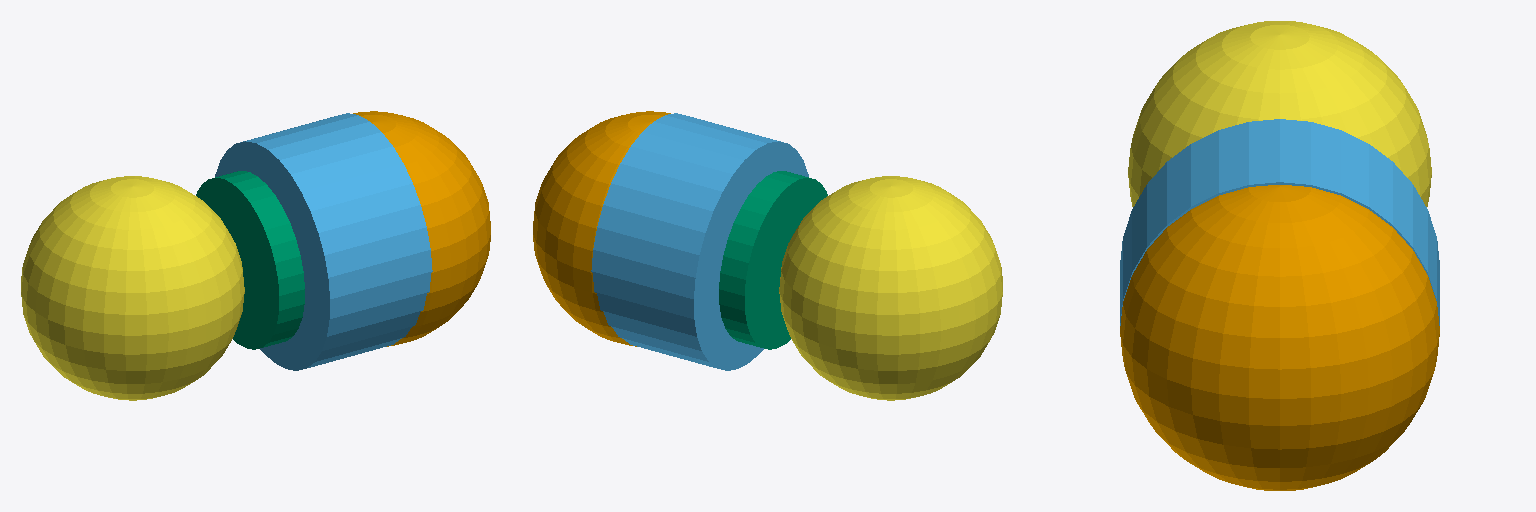
robot.urdf — snake:
<?xml version="1.0"?>
<robot name="snake">
<link name="eye">
  <inertial>
   <mass value="1"/>
   <inertia ixx="0.004" ixy="0" ixz="0" iyy="0.004" iyz="0" izz="0.004"/>
  </inertial>
  <collision>
    <origin rpy="0 0 0" xyz="0 0 0"/>
    <geometry>
      <sphere radius="0.1"/>
    </geometry>
  </collision>
  <visual>
    <origin rpy="0 0 0" xyz="0 0 0"/>
    <geometry>
      <sphere radius="0.1"/>
    </geometry>
  </visual>
</link>

 <link name="head">
  <inertial>
    <mass value="1"/>
    <inertia ixx="0.00333333333333" ixy="0" ixz="0" iyy="0.00333333333333" iyz="0" izz="0.0025"/>
  </inertial>
  <visual>
    <origin rpy="0 1.54 0" xyz="-0.05 0 0"/>
    <geometry>
      <cylinder length="0.1" radius="0.1"/>
    </geometry>
  </visual>
  <collision>
    <origin rpy="0 1.57 0" xyz="-0.05 0 0"/>
    <geometry>
      <cylinder length="0.1" radius="0.1"/>
    </geometry>
  </collision>
 </link>

<joint name="joint_eye_head" type="fixed">
  <origin rpy="0 0 0" xyz="0 0 0"/>
  <parent link="eye"/>
  <child link="head"/>
</joint>

<!--############################################################################
body0
##############################################################################-->
 <link name="body0_cylinder">
  <inertial>
    <mass value="1"/>
    <inertia ixx="0.00145833333333" ixy="0" ixz="0" iyy="0.00145833333333" iyz="0" izz="0.00140625"/>
  </inertial>
  <visual>
    <origin rpy="0 1.54 0" xyz="-0.0125 0 0"/>
    <geometry>
      <cylinder length="0.025" radius="0.075"/>
    </geometry>
  </visual>
  <collision>
    <origin rpy="0 1.57 0" xyz="-0.0125 0 0"/>
    <geometry>
      <cylinder length="0.025" radius="0.075"/>
    </geometry>
  </collision>
 </link>

<joint name="head_body0_joint" type="fixed">
  <origin rpy="0 0 0" xyz="-0.11 0 0"/>
  <parent link="head"/>
  <child link="body0_cylinder"/>
</joint>

<link name="body0">
  <inertial>
   <mass value="1"/>
   <inertia ixx="0.00361" ixy="0" ixz="0" iyy="0.00361" iyz="0" izz="0.00361"/>
  </inertial>
  <collision>
    <origin rpy="0 0 0" xyz="-0.125 0 0"/>
    <geometry>
      <sphere radius="0.095"/>
    </geometry>
  </collision>
  <visual>
    <origin rpy="0 0 0" xyz="-0.125 0 0"/>
    <geometry>
      <sphere radius="0.095"/>
    </geometry>
  </visual>
</link>

<joint name="body0_fixed" type="fixed">
  <origin rpy="0 0 0" xyz="0 0 0"/>
  <parent link="body0_cylinder"/>
  <child link="body0"/>
</joint>

  <klampt package_root="../../.." default_acc_max="4" >
  </klampt>
</robot>

--- What the picture shows (computed from the rendered views, not written in the file) ---
The picture shows the robot from 3 angles, left to right: view 1: azimuth 30°, elevation 25°; view 2: azimuth 150°, elevation 25°; view 3: azimuth 270°, elevation 25°; orthographic projection.
Model snake with 4 links and 3 joints (3 fixed), rooted at eye, posed every joint at zero.
Links seen in each view (by area): view 1: body0, head, eye, body0_cylinder; view 2: body0, head, eye, body0_cylinder; view 3: eye, body0, head.
Boxes of the visible links, x1,y1,x2,y2 form: body0: (21, 176, 244, 400); head: (215, 113, 432, 370); eye: (353, 111, 490, 346); body0_cylinder: (196, 171, 304, 349); body0: (779, 176, 1002, 400); head: (591, 113, 808, 370); eye: (533, 111, 670, 346); body0_cylinder: (719, 171, 827, 349); eye: (1120, 185, 1439, 490); body0: (1128, 21, 1431, 206); head: (1120, 119, 1439, 325).
Bounding box of the posed robot: 0.43 × 0.2 × 0.203 m (x, y, z).
Geometry: primitives only (box / cylinder / sphere), no mesh files.